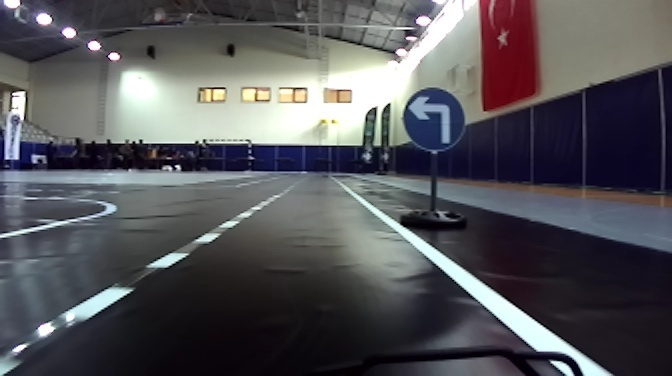sola_donus: (403, 87, 469, 150)
